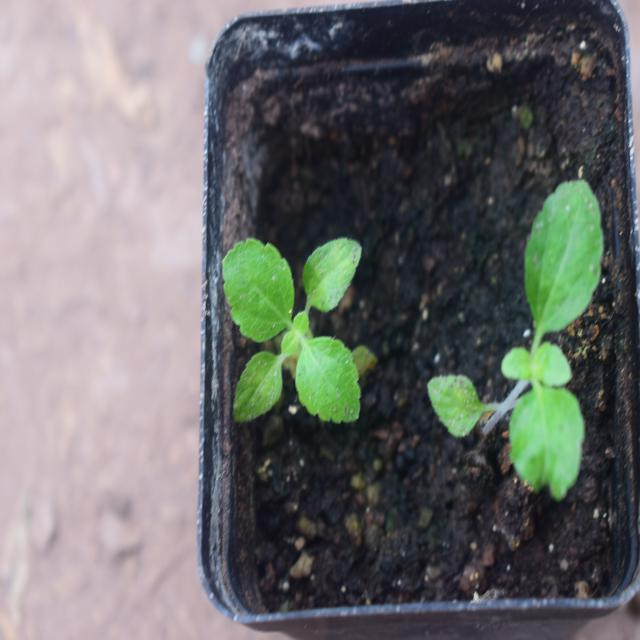billygoat_weed: (464, 176, 614, 486), (220, 216, 369, 437)
